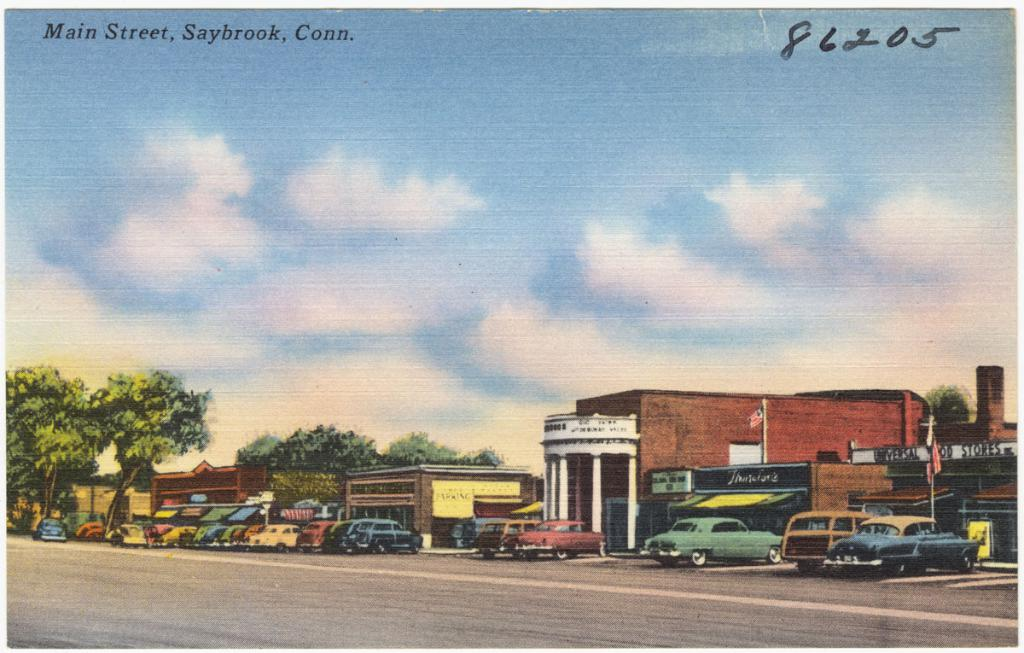Car: (34, 516, 418, 556), (828, 512, 979, 577), (640, 516, 782, 568), (779, 508, 884, 561), (517, 518, 610, 561), (471, 516, 541, 557)
